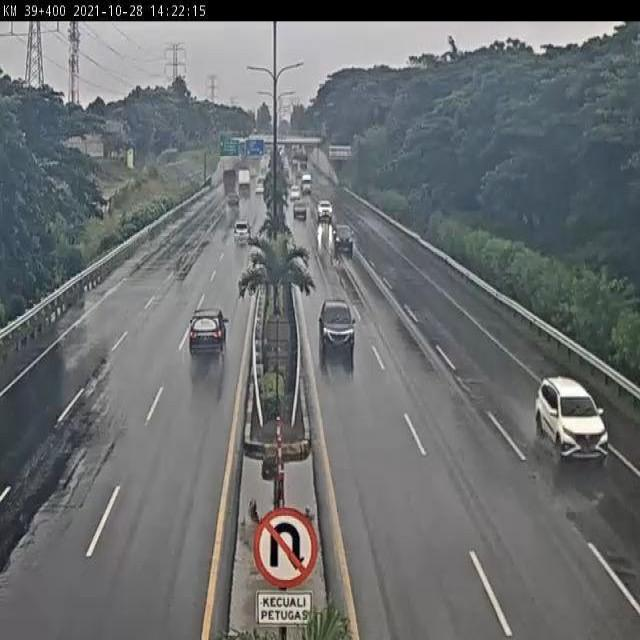car: (534, 378, 608, 470), (317, 300, 357, 353), (189, 308, 227, 357), (332, 223, 356, 253), (232, 217, 253, 247)
